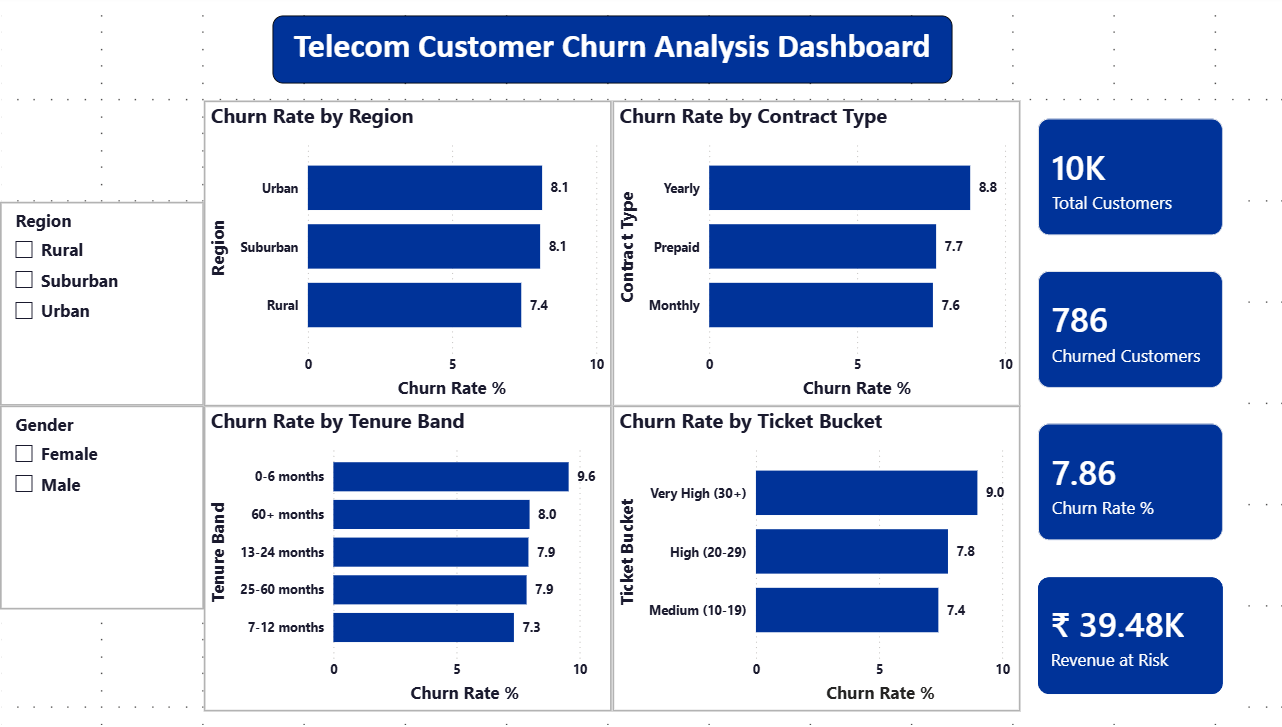

This screenshot's page, from the dashboard's own definition file:
{"tool":"powerbi","page":{"name":"Churn Overview","canvas":[1280,720],"ordinal":0},"visuals":[{"type":"cardVisual","fields":{"Data":["telecom_churn customer_churn.Total Customers"]},"box":[960,96,208,144],"z":0},{"type":"cardVisual","fields":{"Data":["telecom_churn customer_churn.Churned Customers"]},"box":[960,240,208,144],"z":1000},{"type":"cardVisual","fields":{"Data":["telecom_churn customer_churn.Churn Rate %"]},"box":[960,384,208,144],"z":2000},{"type":"cardVisual","fields":{"Data":["telecom_churn customer_churn.Revenue at Risk"]},"box":[960,528,208,144],"z":3000},{"type":"clusteredBarChart","title":"Churn Rate by Contract Type","fields":{"Category":["telecom_churn customer_churn.contract_type"],"Y":["telecom_churn customer_churn.Churn Rate %"]},"box":[576,96,384,288],"z":4000},{"type":"clusteredBarChart","title":"Churn Rate by Tenure Band","fields":{"Y":["telecom_churn customer_churn.Churn Rate %"],"Category":["telecom_churn customer_churn.Tenure Band"]},"box":[192,384,384,288],"z":5000},{"type":"clusteredBarChart","title":"Churn Rate by Ticket Bucket","fields":{"Category":["telecom_churn customer_summary.Ticket Bucket"],"Y":["telecom_churn customer_summary.Churn Rate v2"]},"box":[576,384,384,288],"z":6000},{"type":"slicer","fields":{"Values":["telecom_churn customer_summary.region"]},"box":[0,192,192,192],"z":7000},{"type":"slicer","fields":{"Values":["telecom_churn customer_summary.gender"]},"box":[0,384,192,192],"z":8000},{"type":"textbox","box":[256,16,640,64],"z":9000},{"type":"clusteredBarChart","title":"Churn Rate by Region","fields":{"Category":["telecom_churn customer_summary.region"],"Y":["telecom_churn customer_summary.Churn Rate v2"]},"box":[192,96,384,288],"z":10000}]}

Visuals, with their boxes in screenshot pixels (x1, y1, x2, y2), scaled from the page's 1280x720 canvas onto the 1282x727 screenshot:
cardVisual - telecom_churn customer_churn.Total Customers: 961, 97, 1170, 242
cardVisual - telecom_churn customer_churn.Churned Customers: 961, 242, 1170, 388
cardVisual - telecom_churn customer_churn.Churn Rate %: 961, 388, 1170, 533
cardVisual - telecom_churn customer_churn.Revenue at Risk: 961, 533, 1170, 679
"Churn Rate by Contract Type" clusteredBarChart: 577, 97, 961, 388
"Churn Rate by Tenure Band" clusteredBarChart: 192, 388, 577, 679
"Churn Rate by Ticket Bucket" clusteredBarChart: 577, 388, 961, 679
slicer - telecom_churn customer_summary.region: 0, 194, 192, 388
slicer - telecom_churn customer_summary.gender: 0, 388, 192, 582
textbox: 256, 16, 897, 81
"Churn Rate by Region" clusteredBarChart: 192, 97, 577, 388
